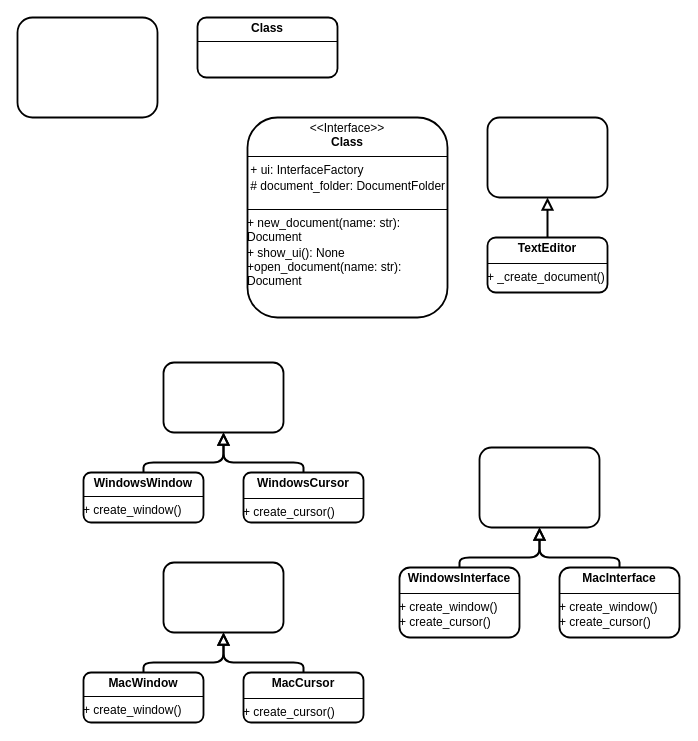
Some shapes in this 698 by 741 pixel diagram are drawn without their labels. Here are the shapes that lost their labels. From the top down, the box of each, then its label:
(16, 16, 158, 118): <<Interface>> Class +createWindow()
(486, 116, 608, 198): <<Interface>> Application + create_window() + create_cursor()
(162, 361, 284, 433): <<Interface>> Window + create_window()
(478, 446, 600, 528): <<Interface>> InterfaceFactory + create_window() + create_cursor()
(162, 561, 284, 633): <<Interface>> Cursor + create_cursor()
